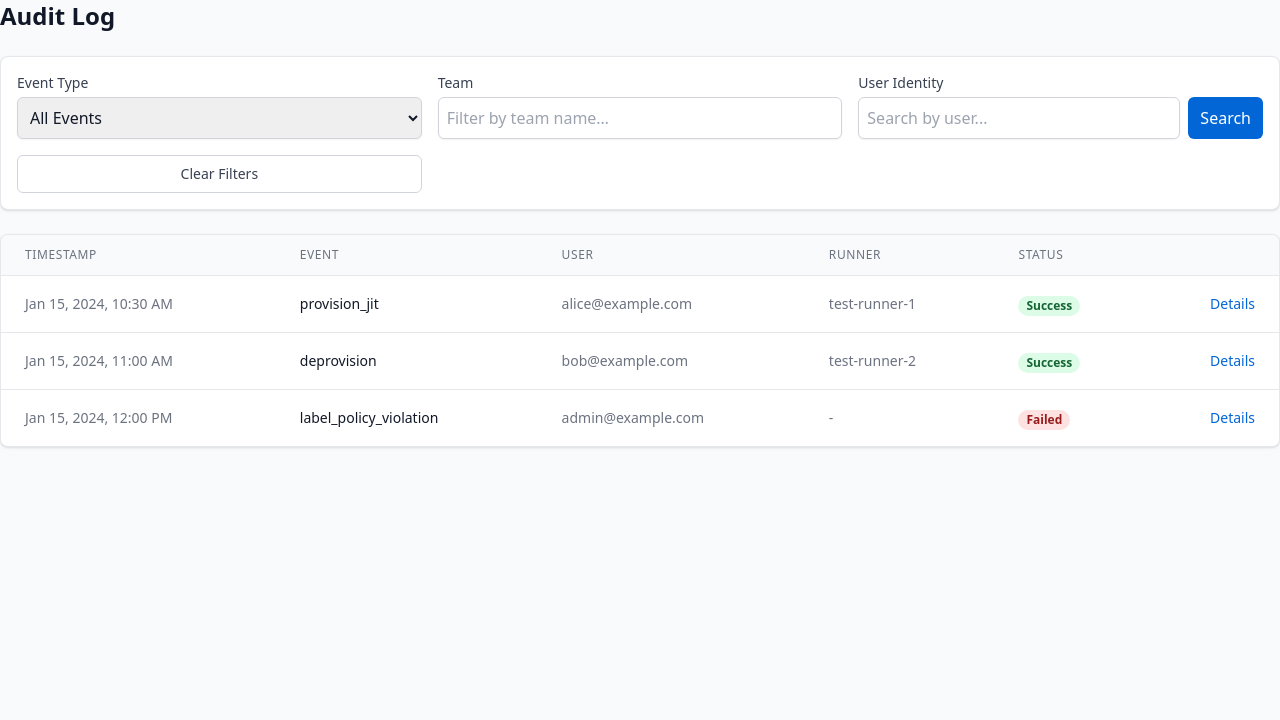
Test case: AuditLog › displays error message in modal for failed events
The image size is (1280, 720).
Note: Click on the failed event (third one)
What coordinates should you click on to do the following:
click the button "Details" in the row of "Jan 15, 2024, 12:00 PM"
I would click on:
 (1232, 418)
Its box is x1=1210 y1=408 x2=1255 y2=428.
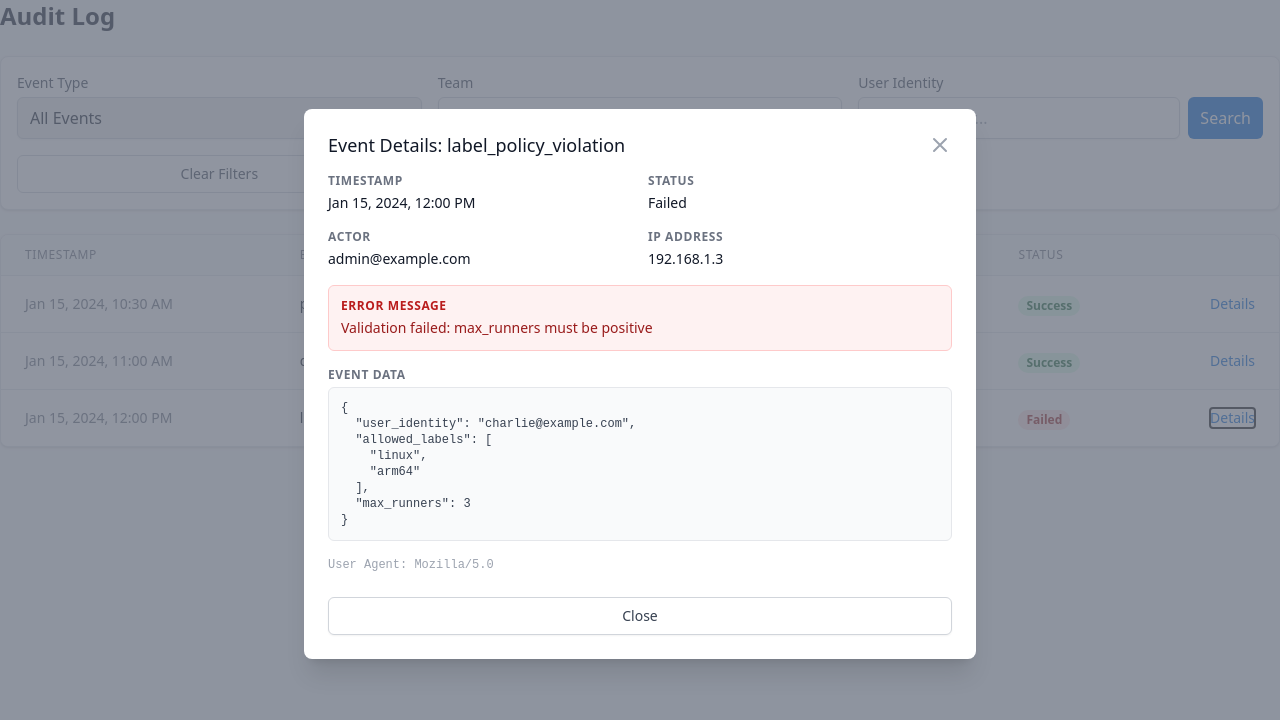
Result: the text "Validation failed: max_runners must be positive" is shown at x1=341 y1=318 x2=653 y2=337
